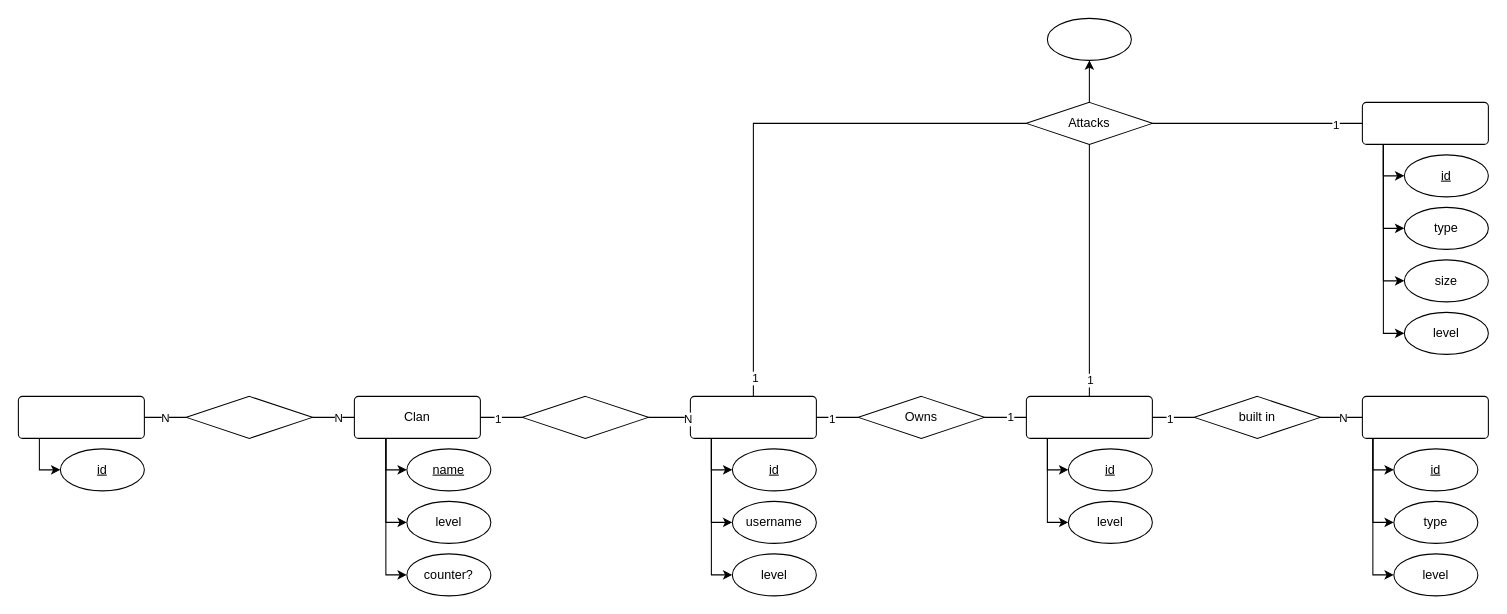
Some shapes in this 1507 by 614 pixel diagram are drawn without their labels. The centre of each missing label's shape, as x and y in pixels:
"Building" belongs at point 1424,416.
"Clan battle" belongs at point 80,416.
"compete" belongs at point 248,416.
"experience points" belongs at point 1088,38.
"Join" belongs at point 584,416.
"Player" belongs at point 752,416.
"Troop" belongs at point 1424,122.
"Village" belongs at point 1088,416.
